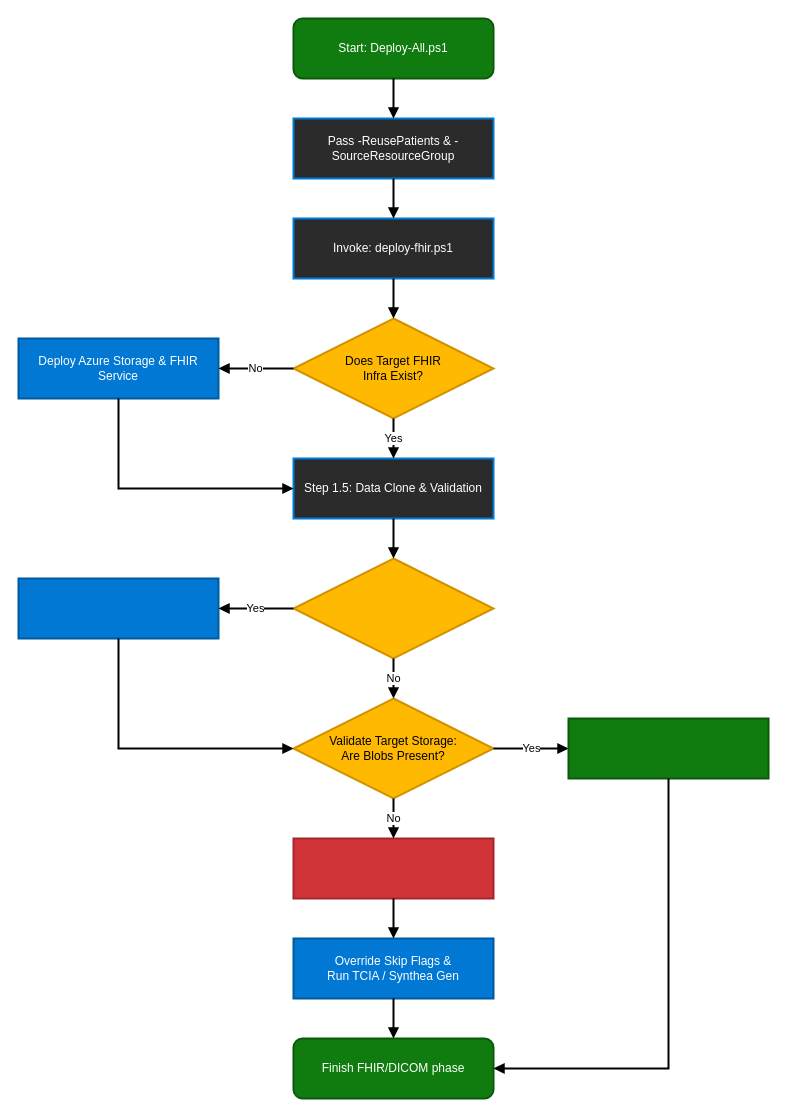
Some shapes in this 786 by 1116 pixel diagram are drawn without their labels. Each missing label, with the centre of its shape:
"az storage blob copy" goes at (118,608).
"Data Verified (Skip Generation)" goes at (668,748).
"Is SourceResourceGroup Provided?" goes at (393,608).
"⚠ Target is Empty!" goes at (393,868).
